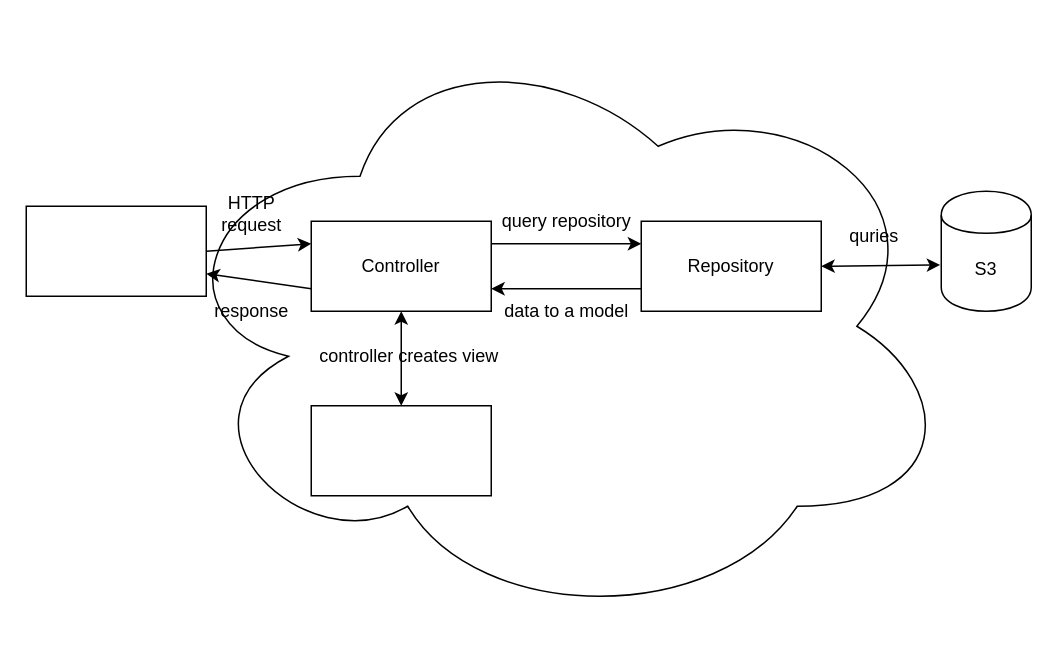
The diagram is 1058 pixels wide and 653 high, and some of its shapes have lost their labels. Each missing label, with the centre of its shape:
Client: point (115, 250)
View: point (400, 450)
